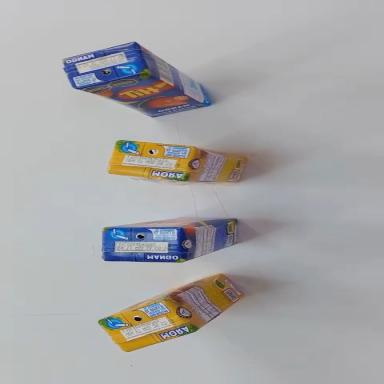HIT-MANGO: (55, 18, 221, 142), (102, 216, 239, 264)
HIT-MORA: (97, 266, 250, 362), (107, 138, 247, 190)
cara_F: (73, 57, 212, 129), (97, 273, 221, 319), (106, 216, 236, 229)
